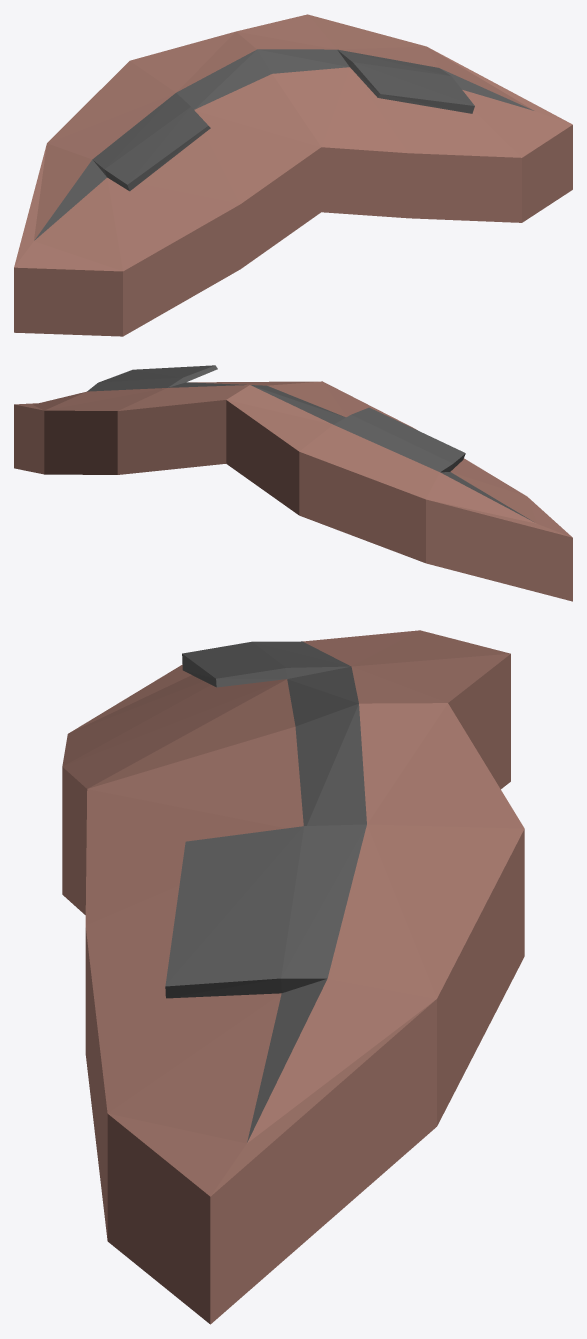
The model's file is Mouth 09.FBX.
3 renders of one model, top to bottom at view 1: azimuth 30°, elevation 25°; view 2: azimuth 150°, elevation 25°; view 3: azimuth 270°, elevation 25°, orthographic. The views are drawn at different scales.
Visible parts, largest first — view 1: Mouth 09; view 2: Mouth 09; view 3: Mouth 09.
Part boxes in pixels (bbox=[...]): Mouth 09: bbox=[14, 14, 572, 336]; Mouth 09: bbox=[14, 365, 572, 601]; Mouth 09: bbox=[62, 630, 524, 1324].
Bounding box in the file's own units: 7.18 × 2.23 × 2.59.
